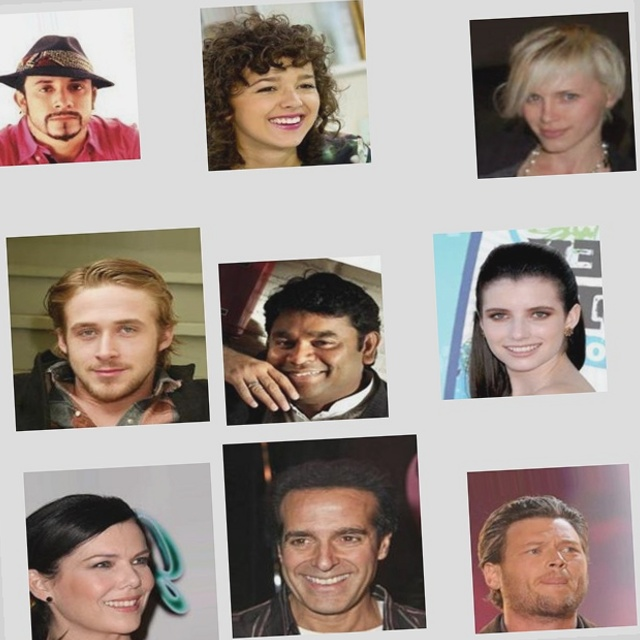celeb_1212: (442, 487, 613, 640)
celeb_2336: (201, 434, 405, 638)
celeb_2970: (433, 247, 608, 421)
celeb_3: (7, 0, 167, 142)
celeb_5695: (0, 441, 196, 638)
celeb_7: (217, 254, 387, 424)
celeb_7007: (225, 0, 396, 170)
celeb_797: (492, 38, 640, 205)
celeb_8335: (7, 206, 211, 410)
